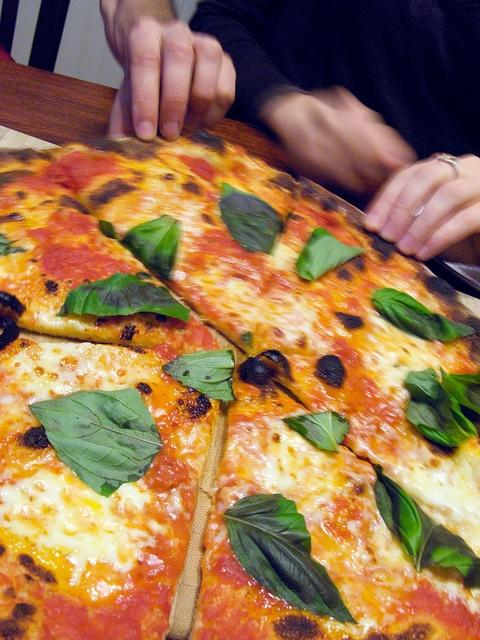lettuce: (223, 493, 357, 623), (373, 464, 480, 590), (55, 271, 190, 322), (404, 368, 478, 448), (371, 288, 476, 342), (162, 349, 238, 402), (297, 226, 366, 282), (122, 214, 180, 280), (282, 410, 349, 454)
